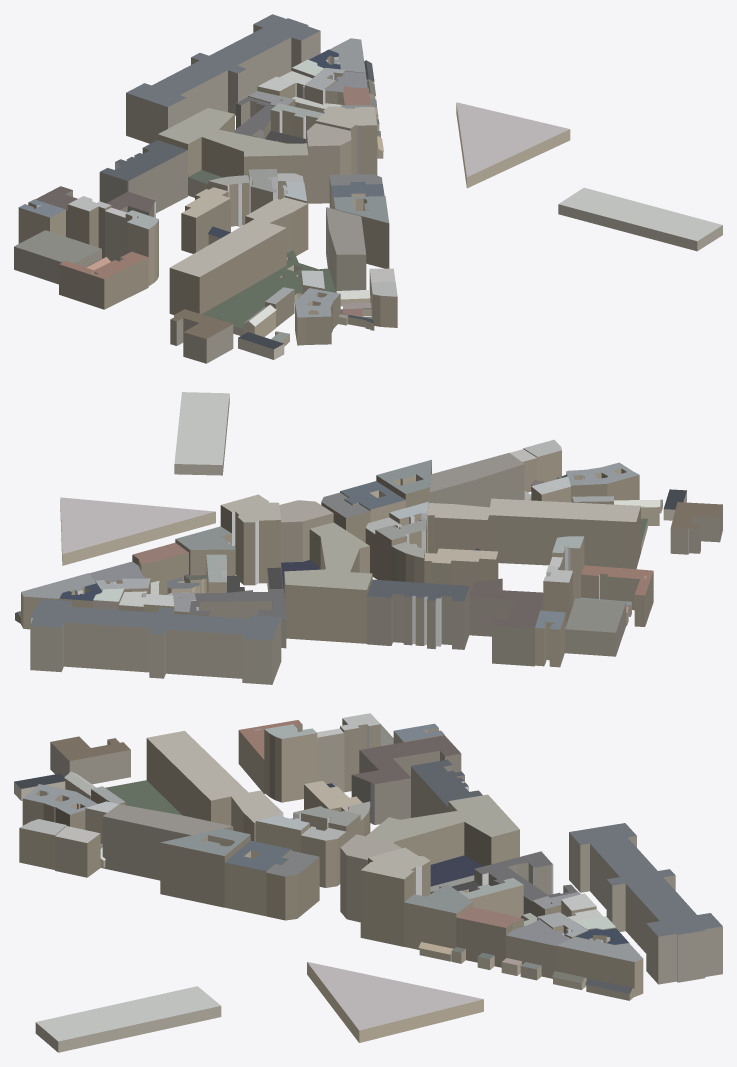
3 renders of one model, top to bottom at view 1: azimuth 30°, elevation 25°; view 2: azimuth 150°, elevation 25°; view 3: azimuth 270°, elevation 25°, orthographic. The views are drawn at different scales.
Parts seen in each view (by area): view 1: tuile; view 2: tuile; view 3: tuile.
Boxes of the visible parts, x1,y1,x2,y2 form: tuile: (14, 14, 722, 363); tuile: (15, 392, 722, 684); tuile: (14, 713, 722, 1052).
Size of the model in its own units: 290 by 31.92 by 283.
